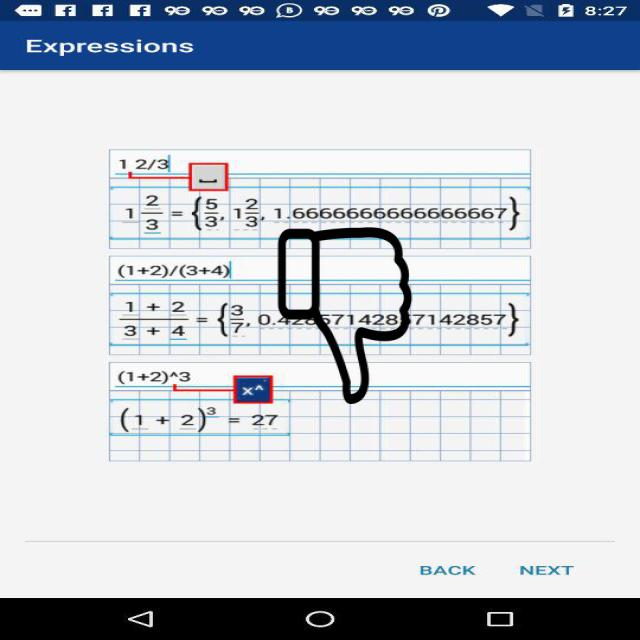obstruction: (276, 227, 414, 404)
